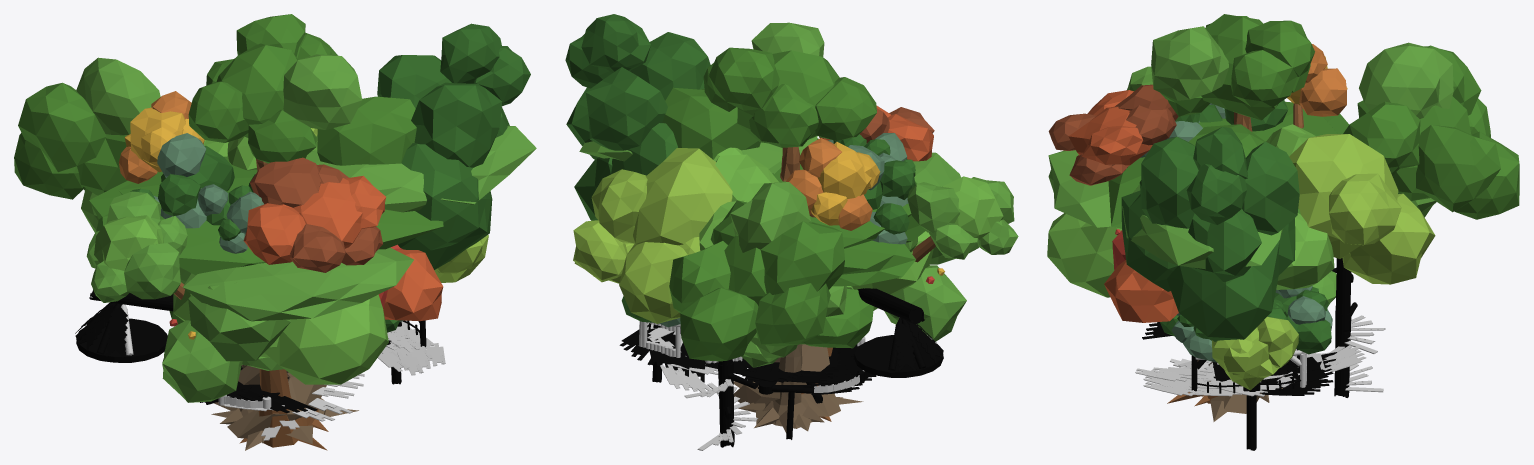
File: CasaDelArbol_1_Prueba.fbx
3 views of the same model, side by side, from view 1: azimuth 30°, elevation 25°; view 2: azimuth 150°, elevation 25°; view 3: azimuth 270°, elevation 25° (orthographic). The views are drawn at different scales.
Visible parts, largest first — view 1: Cube.059, HS_LP_Tree_Oak_01; view 2: Cube.059, HS_LP_Tree_Oak_01, Circle.052; view 3: Cube.059, HS_LP_Tree_Oak_01.
Part boxes in pixels (x1,y1,x2,y2): Cube.059: (75, 14, 536, 450); HS_LP_Tree_Oak_01: (14, 57, 160, 232); Cube.059: (565, 14, 1018, 447); HS_LP_Tree_Oak_01: (669, 182, 844, 361); Circle.052: (642, 322, 742, 363); Cube.059: (1047, 14, 1435, 450); HS_LP_Tree_Oak_01: (1343, 42, 1519, 219).
Size of the model in its own units: 18577 by 15536 by 17293.
